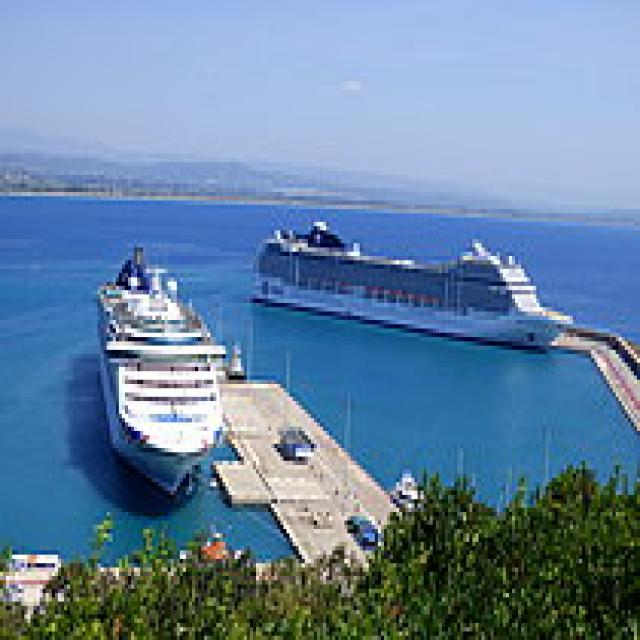Cruise: (247, 209, 573, 354), (88, 235, 228, 499)
